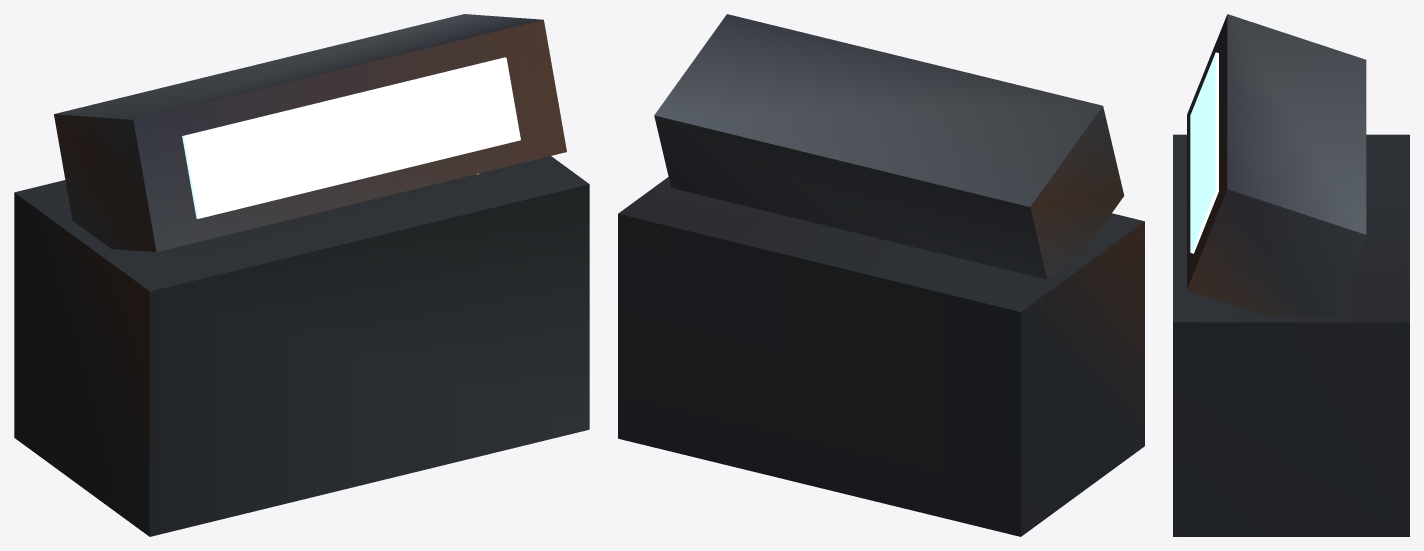
File: console.glb
3 views of the same model, side by side, from view 1: azimuth 30°, elevation 25°; view 2: azimuth 150°, elevation 25°; view 3: azimuth 270°, elevation 25° (orthographic). The views are drawn at different scales.
Visible parts, largest first — view 1: console; view 2: console; view 3: console.
Boxes of the visible parts, x1,y1,x2,y2 form: console: [14, 14, 589, 536]; console: [618, 14, 1144, 536]; console: [1173, 14, 1409, 536].
Size of the model in its own units: 30 by 25.47 by 16.
